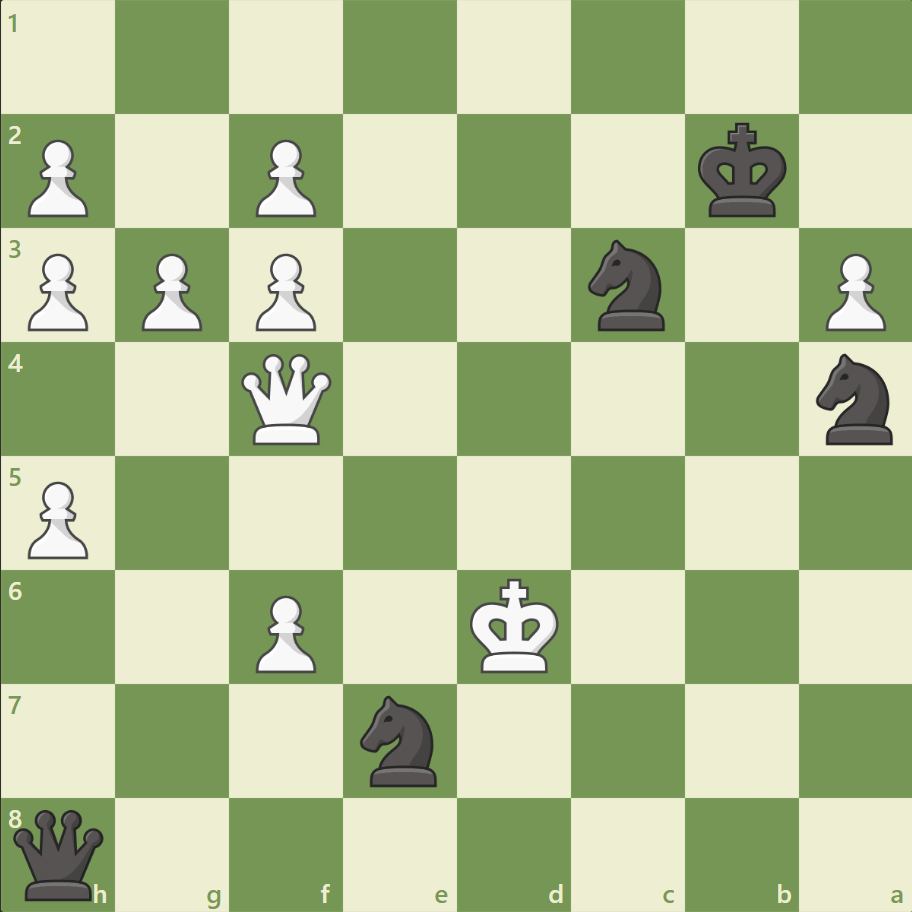K: (465, 571, 565, 679)
P: (247, 586, 322, 677), (20, 473, 95, 564), (247, 246, 322, 337), (133, 246, 208, 337), (20, 246, 95, 337), (247, 132, 322, 223), (20, 132, 95, 223), (815, 246, 889, 337)
Q: (237, 349, 336, 449)
k: (692, 117, 792, 225)
n: (351, 688, 449, 791), (579, 234, 676, 337), (806, 348, 903, 450)
q: (10, 804, 109, 903)
